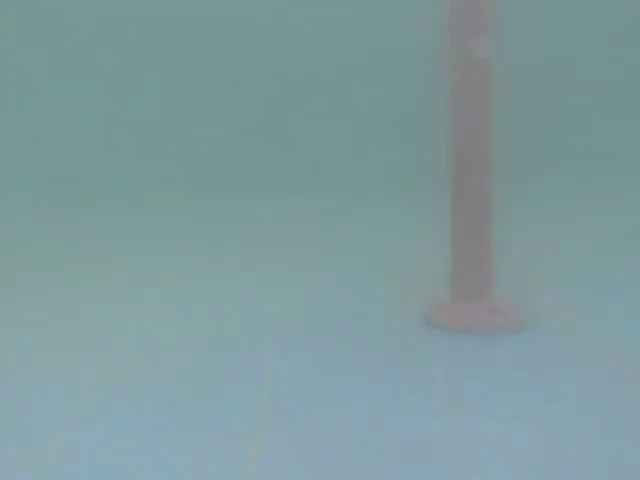flare: (416, 0, 531, 341)
